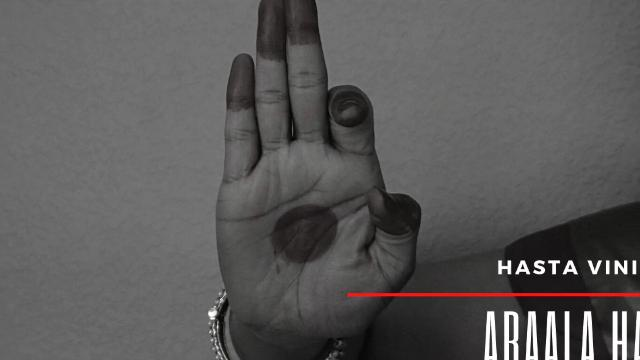aral: (202, 2, 438, 360)
